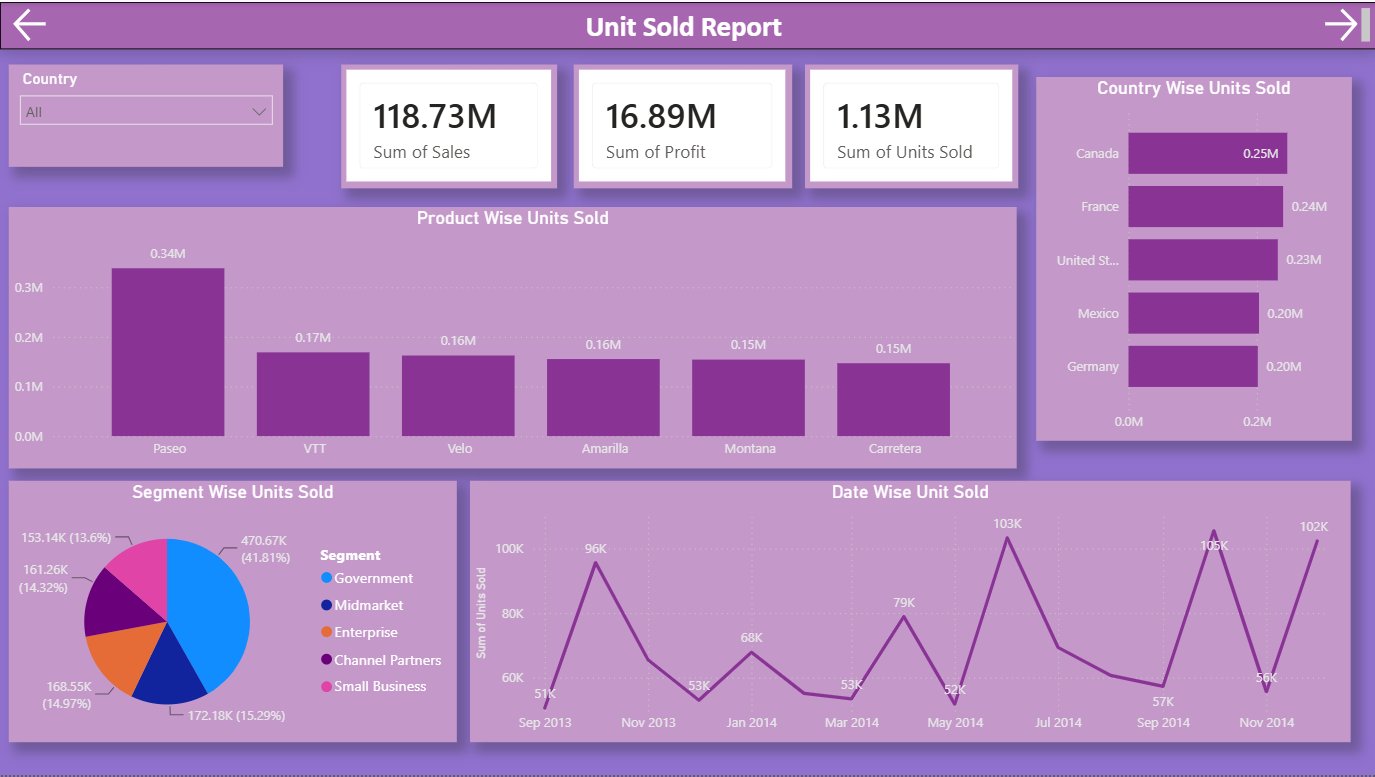

The dashboard page shown, as its layout file describes it:
{"tool":"powerbi","page":{"name":"Unit Sold Report","canvas":[1280,720],"ordinal":3},"visuals":[{"type":"textbox","box":[0,0,1280.3,44],"z":0},{"type":"slicer","fields":{"Values":["financials.Country"]},"box":[8.6,58.7,255.6,95.4],"z":1000},{"type":"cardVisual","fields":{"Data":["Sum(financials. Sales)"]},"box":[317.9,58.7,200.5,114.9],"z":2000},{"type":"cardVisual","fields":{"Data":["Sum(financials.Profit)"]},"box":[533.2,58.7,203,114.9],"z":3000},{"type":"cardVisual","fields":{"Data":["Sum(financials.Units Sold)"]},"box":[748.4,58.7,198.1,114.9],"z":4000},{"type":"columnChart","title":"Product Wise Units Sold","fields":{"Category":["financials.Product"],"Y":["Sum(financials.Units Sold)"]},"box":[8.6,190.8,937.9,243.3],"z":5000},{"type":"pieChart","title":"Segment Wise Units Sold","fields":{"Category":["financials.Segment"],"Y":["Sum(financials.Units Sold)"]},"box":[8.6,445.1,417,243.3],"z":6000},{"type":"barChart","title":"Country Wise Units Sold","fields":{"Category":["financials.Country"],"Y":["Sum(financials.Units Sold)"]},"box":[963.6,69.7,293.5,338.7],"z":7000},{"type":"lineChart","title":"Date Wise Unit Sold","fields":{"Category":["financials.Date.Variation.Date Hierarchy.Year","financials.Date.Variation.Date Hierarchy.Quarter","financials.Date.Variation.Date Hierarchy.Month","financials.Date.Variation.Date Hierarchy.Day"],"Y":["Sum(financials.Units Sold)"]},"box":[437.8,445.1,819.3,243.3],"z":8000},{"type":"actionButton","box":[8.6,1.2,48.9,40.4],"z":9000},{"type":"actionButton","box":[1226.5,1.2,45.2,40.4],"z":10000}]}

Visuals, with their boxes in screenshot pixels (x1, y1, x2, y2), scaled from the page's 1280x720 canvas onto the 1375x777 screenshot:
textbox: <region>0, 0, 1374, 47</region>
slicer - financials.Country: <region>9, 63, 284, 166</region>
cardVisual - Sum(financials. Sales): <region>341, 63, 557, 187</region>
cardVisual - Sum(financials.Profit): <region>573, 63, 791, 187</region>
cardVisual - Sum(financials.Units Sold): <region>804, 63, 1017, 187</region>
"Product Wise Units Sold" columnChart: <region>9, 206, 1017, 468</region>
"Segment Wise Units Sold" pieChart: <region>9, 480, 457, 743</region>
"Country Wise Units Sold" barChart: <region>1035, 75, 1350, 441</region>
"Date Wise Unit Sold" lineChart: <region>470, 480, 1350, 743</region>
actionButton: <region>9, 1, 62, 45</region>
actionButton: <region>1318, 1, 1366, 45</region>
